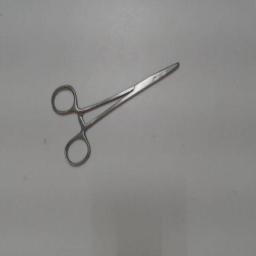Mayo Needle Holder: (46, 54, 190, 172)
